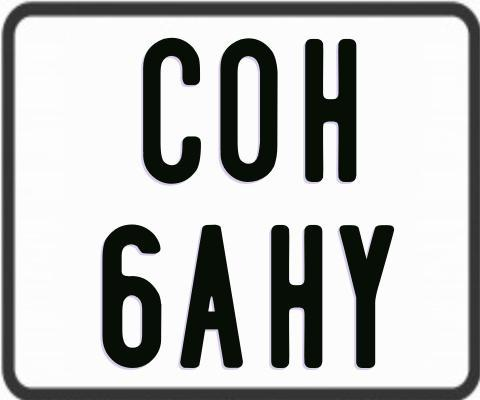0: (220, 36, 282, 180)
6: (100, 223, 162, 372)
A: (180, 224, 247, 367)
C: (143, 38, 203, 190)
H: (269, 223, 326, 366), (304, 37, 355, 184)
Y: (336, 224, 391, 369)
